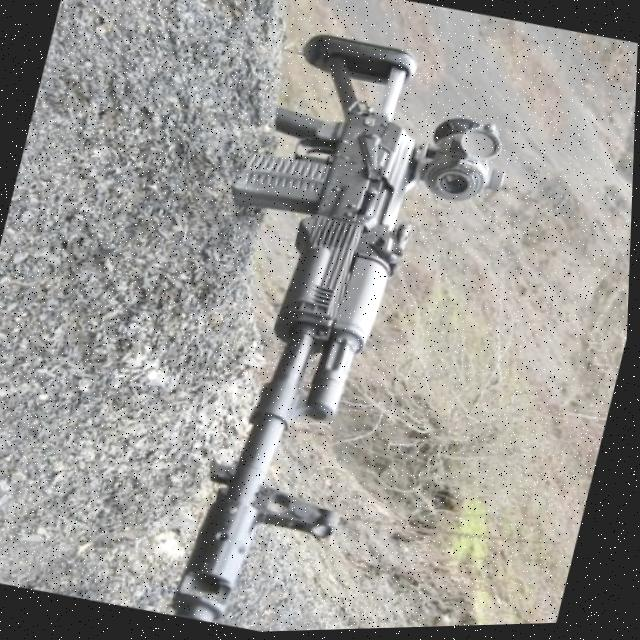firearm: (131, 18, 534, 637)
